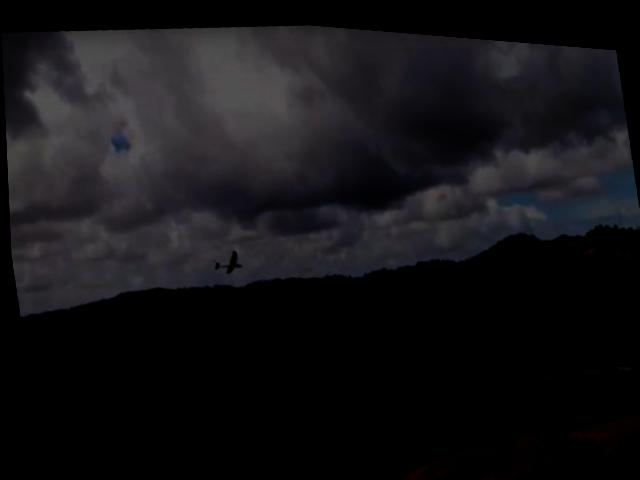iha: (209, 240, 248, 275)
